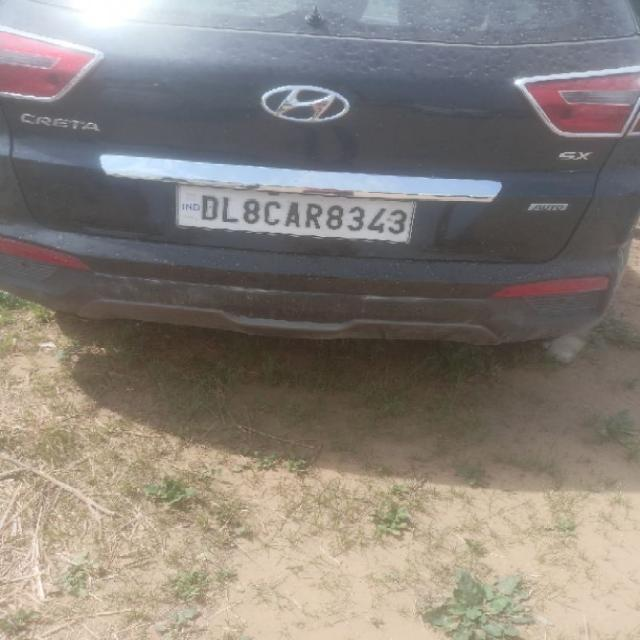license_plate: (174, 182, 417, 245)
